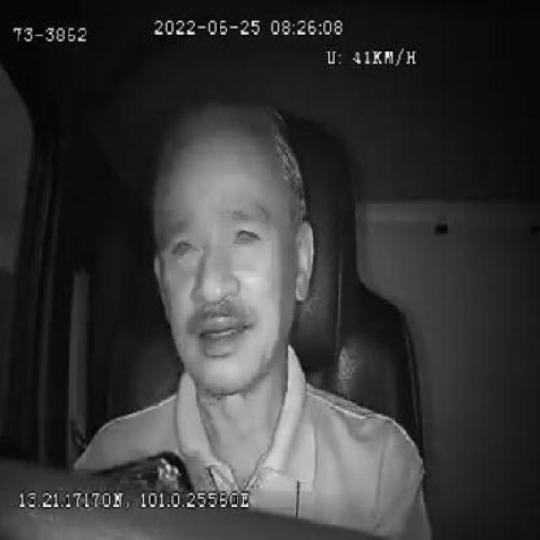phone: (81, 453, 191, 489)
